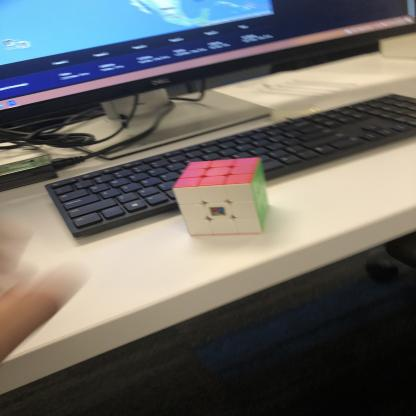SolvedCube: (173, 159, 267, 236)
